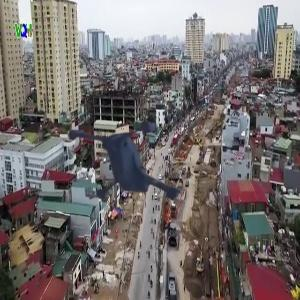drone: (76, 97, 216, 237)
